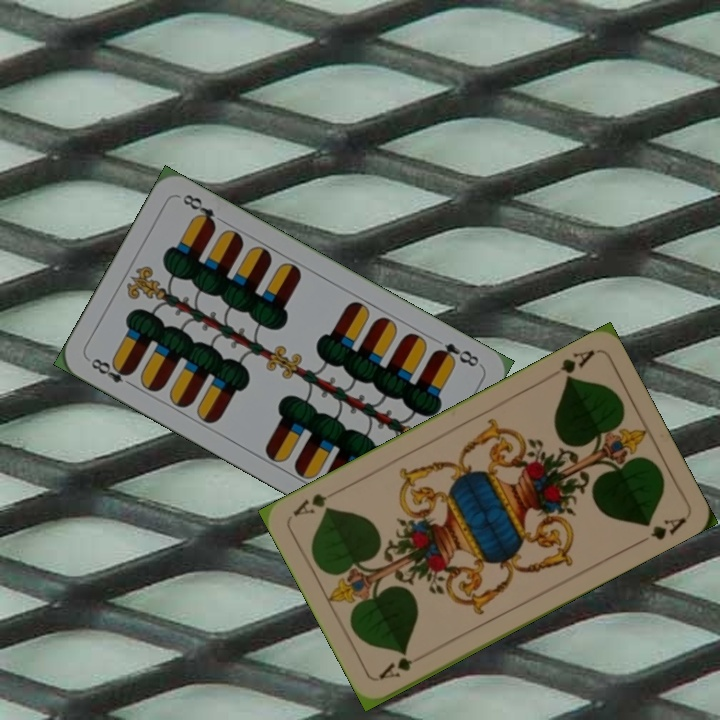E8: (87, 354, 138, 390), (430, 339, 482, 370)
GA: (375, 650, 430, 682), (556, 345, 598, 385)
